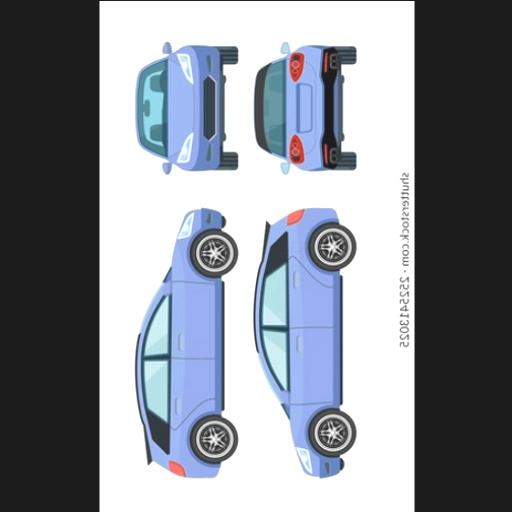hatchback: (134, 207, 237, 476), (253, 206, 355, 476), (253, 42, 355, 171), (136, 41, 237, 171)
